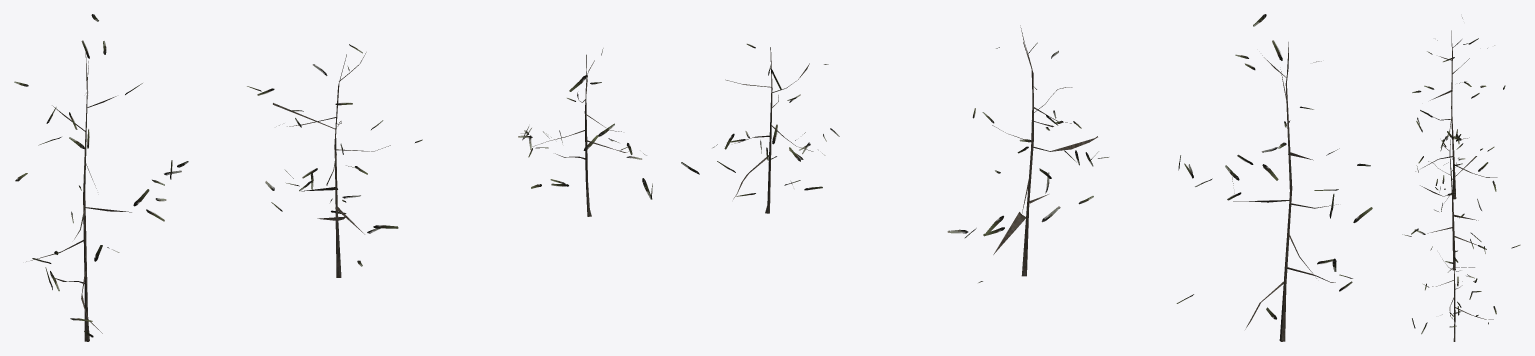
The model's file is fir_sapling.glb.
3 renders of one model, left to right at view 1: azimuth 30°, elevation 25°; view 2: azimuth 150°, elevation 25°; view 3: azimuth 270°, elevation 25°, orthographic. The views are drawn at different scales.
Visible parts, largest first — view 1: fir_sapling_a, fir_sapling_b, fir_sapling_c; view 2: fir_sapling_a, fir_sapling_b, fir_sapling_c; view 3: fir_sapling_a, fir_sapling_b, fir_sapling_c.
Boxes of the visible parts, x1,y1,x2,y2 form: fir_sapling_a: (14,14,188,341); fir_sapling_b: (247,44,422,277); fir_sapling_c: (518,48,652,216); fir_sapling_a: (1176,14,1372,341); fir_sapling_b: (947,25,1108,282); fir_sapling_c: (681,43,839,213); fir_sapling_a: (1412,17,1505,199); fir_sapling_b: (1402,130,1520,270); fir_sapling_c: (1412,245,1496,341).
Size of the model in its own units: 2.48 by 1.22 by 0.7051.
2 materials, 2 textured.
